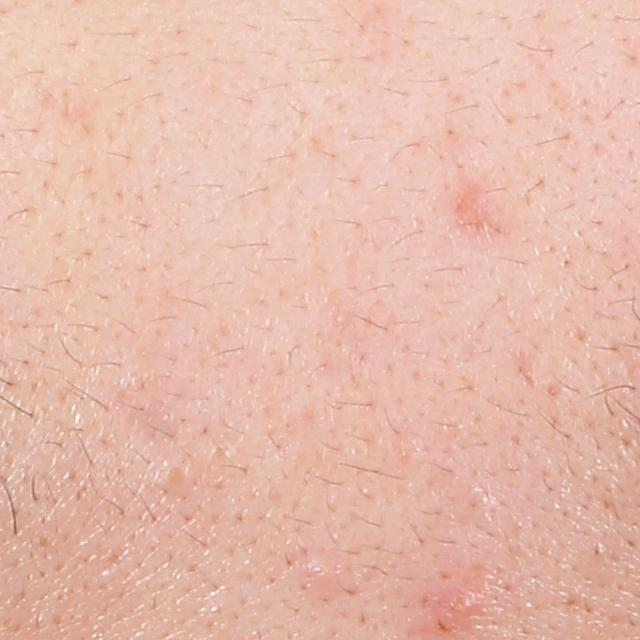comedo: (299, 558, 357, 604), (158, 461, 194, 495)
